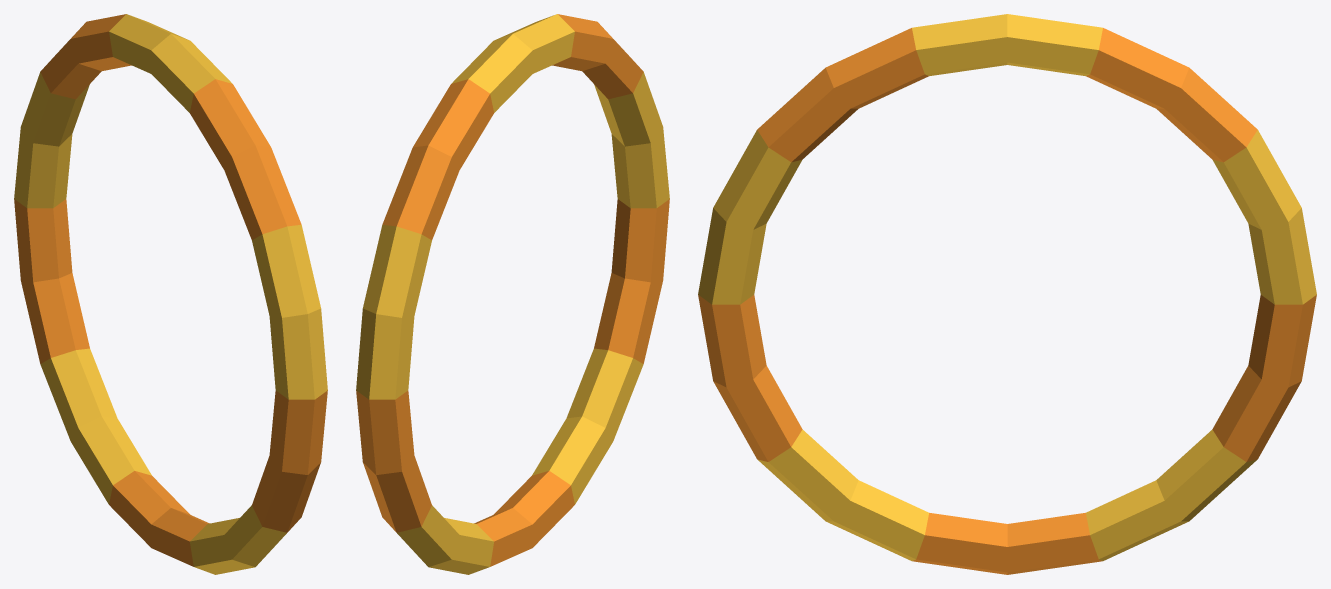
File: SM_Ring.obj
The picture shows the model from 3 angles, left to right: view 1: azimuth 30°, elevation 25°; view 2: azimuth 150°, elevation 25°; view 3: azimuth 270°, elevation 25°; orthographic projection. The views are drawn at different scales.
Parts seen in each view (by area): view 1: SM_Ring; view 2: SM_Ring; view 3: SM_Ring.
Boxes of the visible parts, <box> form: SM_Ring: <box>14,14,327,574</box>; SM_Ring: <box>356,14,669,574</box>; SM_Ring: <box>698,14,1316,574</box>.
Size of the model in its own units: 1.21 by 15.4 by 15.4.
Materials: 1 (1 with a texture image).
